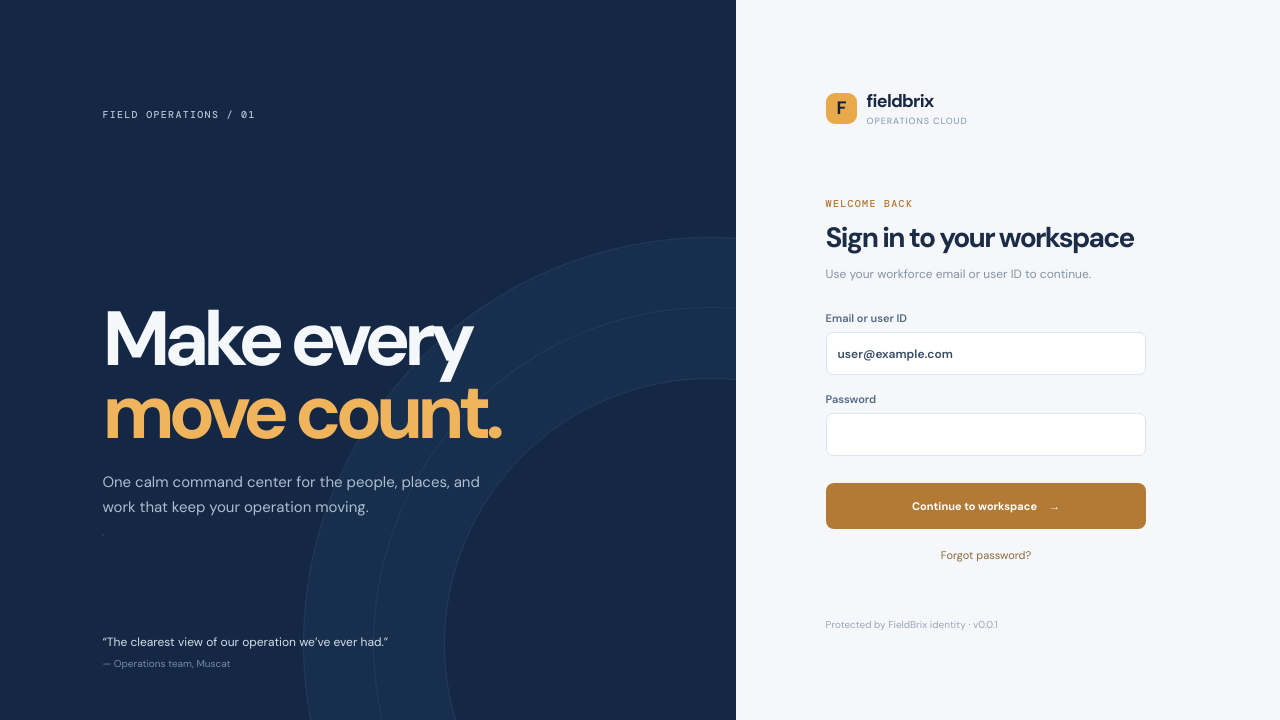
Test case: Login component › toggles forgot password form when link clicked
What coordinates should you click on to do the following:
click the button "Forgot password?"
I would click on:
 (986, 555)
Its box is [935, 547, 1037, 563].
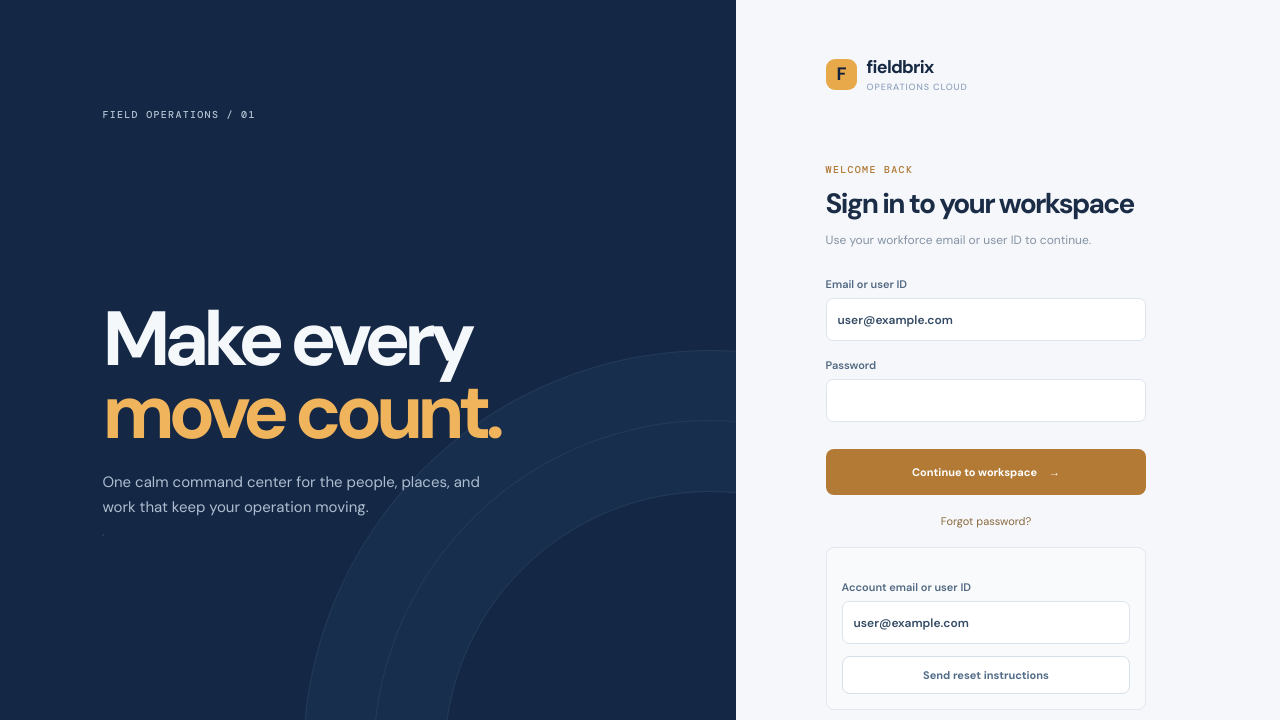
Now the button "Send reset instructions" is shown, box [842, 656, 1130, 694]
